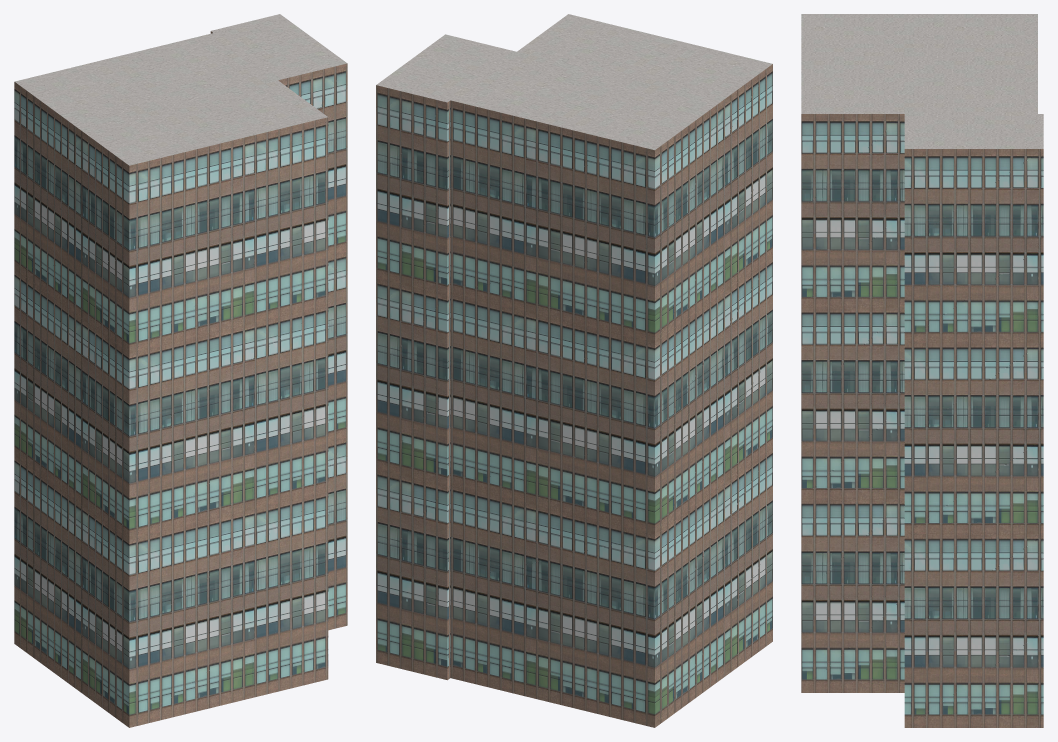
File: building_003_002.glb
The picture shows the model from 3 angles, left to right: view 1: azimuth 30°, elevation 25°; view 2: azimuth 150°, elevation 25°; view 3: azimuth 270°, elevation 25°; orthographic projection. The views are drawn at different scales.
Visible parts, largest first — view 1: building_003.002; view 2: building_003.002; view 3: building_003.002.
Part boxes in pixels (bbox=[...]): building_003.002: bbox=[14, 14, 347, 727]; building_003.002: bbox=[376, 14, 772, 727]; building_003.002: bbox=[801, 14, 1043, 727].
Bounding box in the file's own units: 1349 × 2700 × 1025.
Materials: 2 (2 with a texture image).
